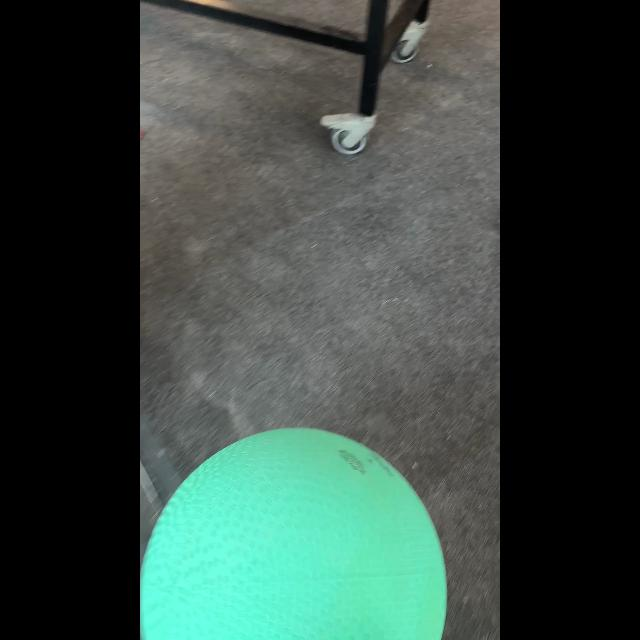ALGAE: (140, 426, 448, 638)
